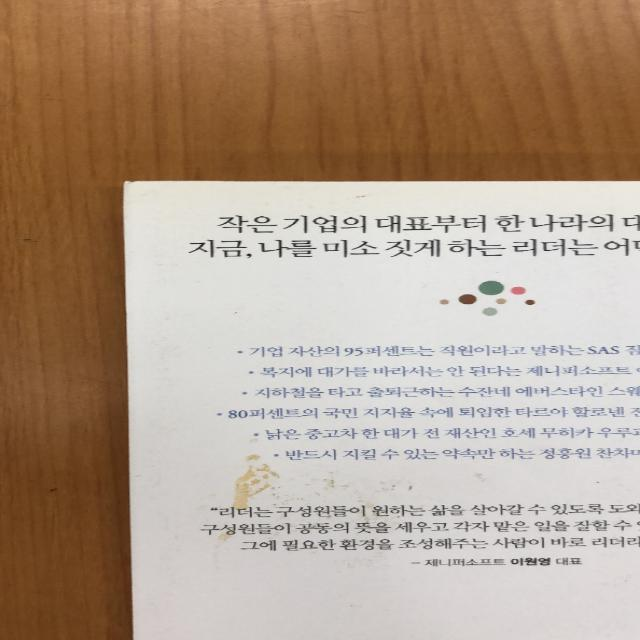Wornout: (115, 173, 189, 188)
